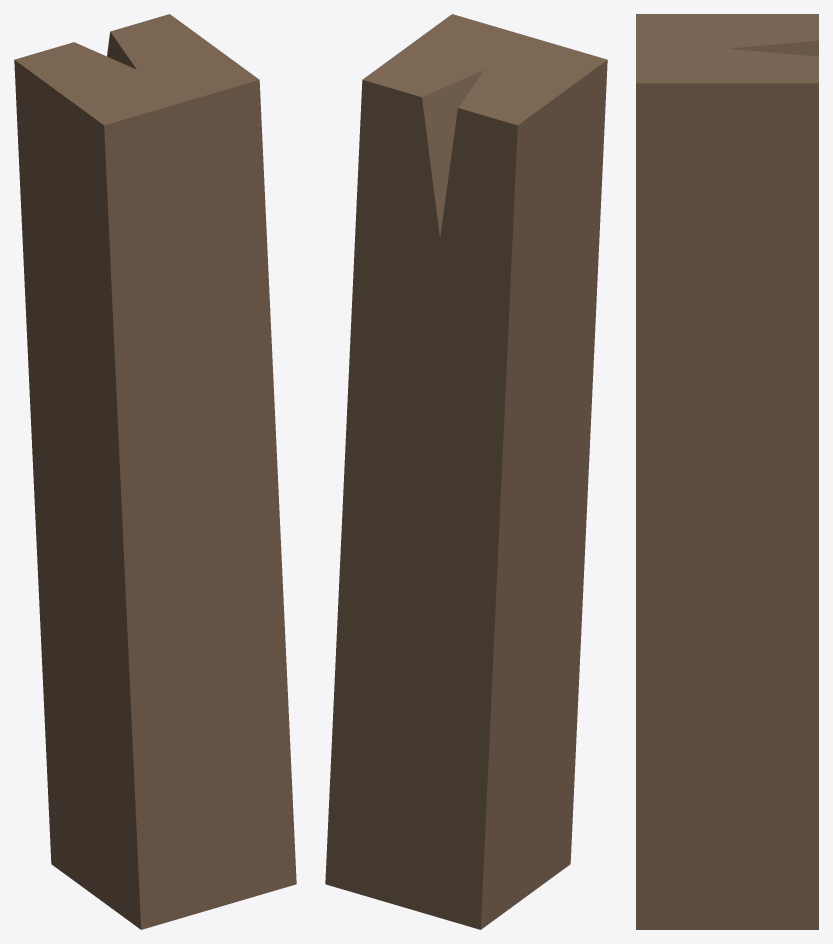
Rendered from Hilly_Prop_Fence_Post_2.glb.
The picture shows the model from 3 angles, left to right: view 1: azimuth 30°, elevation 25°; view 2: azimuth 150°, elevation 25°; view 3: azimuth 270°, elevation 25°; orthographic projection.
Parts seen in each view (by area): view 1: Hilly_Prop_Fence_Post_2; view 2: Hilly_Prop_Fence_Post_2; view 3: Hilly_Prop_Fence_Post_2.
Part boxes in pixels (x1,y1,x2,y2): Hilly_Prop_Fence_Post_2: (14, 14, 296, 929); Hilly_Prop_Fence_Post_2: (325, 14, 607, 929); Hilly_Prop_Fence_Post_2: (636, 14, 818, 929).
Size of the model in its own units: 0.1855 by 0.7563 by 0.15.
